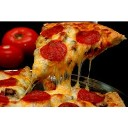pepperonipizza: (35, 21, 125, 79)
